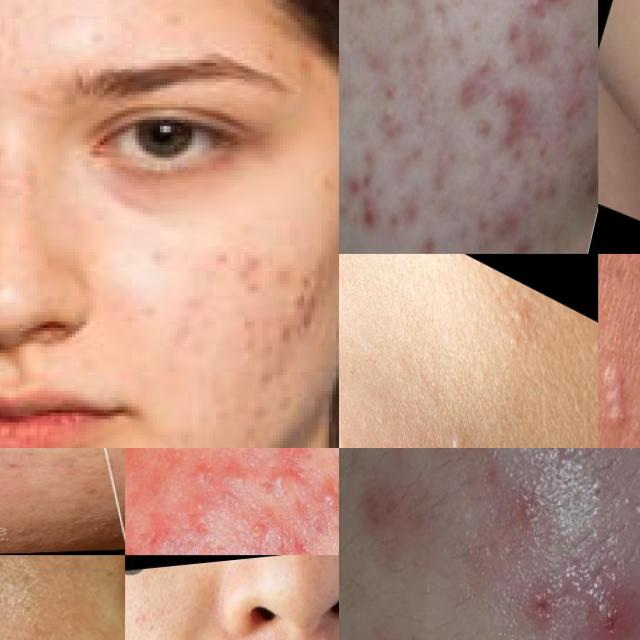acne_scars: (176, 448, 257, 518), (489, 88, 548, 177), (294, 460, 339, 549), (512, 0, 580, 50)
comedone: (467, 39, 513, 94), (577, 467, 619, 527), (368, 90, 409, 150), (362, 0, 412, 34), (439, 419, 476, 448), (133, 448, 166, 466), (628, 418, 640, 448)
flat_wart: (598, 342, 640, 441)
papule: (584, 590, 640, 640)
pustule: (256, 457, 303, 505)
